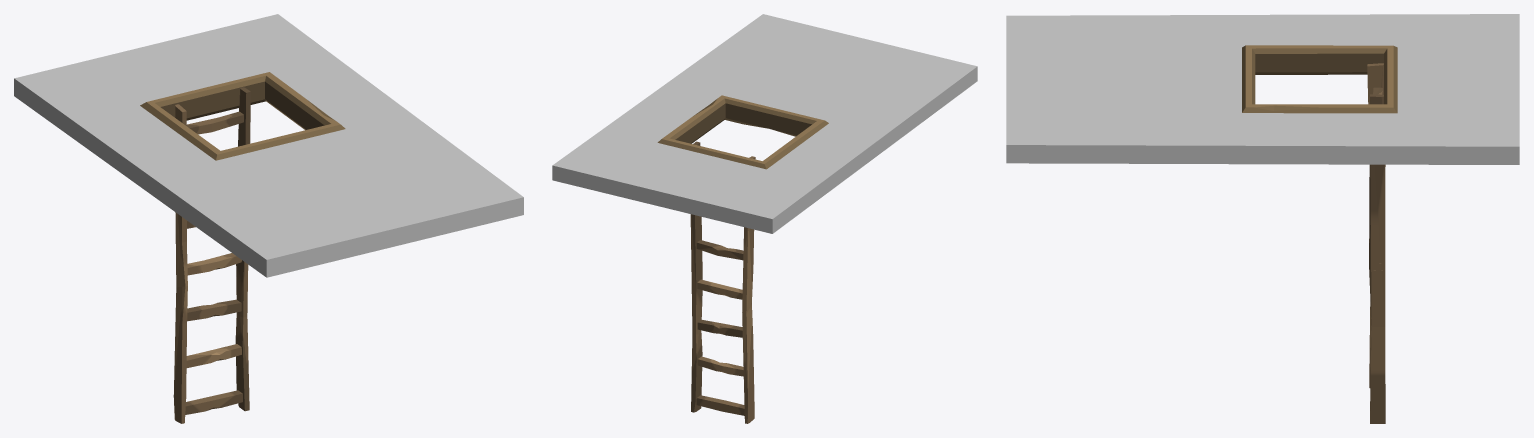
File: SM_Veh_Ship_Ladder_01.fbx
3 renders of one model, left to right at view 1: azimuth 30°, elevation 25°; view 2: azimuth 150°, elevation 25°; view 3: azimuth 270°, elevation 25°, orthographic. The views are drawn at different scales.
Parts seen in each view (by area): view 1: SM_Veh_Ship_Ladder_01; view 2: SM_Veh_Ship_Ladder_01; view 3: SM_Veh_Ship_Ladder_01.
Part boxes in pixels (x1,y1,x2,y2): SM_Veh_Ship_Ladder_01: (14,14,523,423); SM_Veh_Ship_Ladder_01: (552,14,977,423); SM_Veh_Ship_Ladder_01: (1006,14,1519,423).
Size of the model in its own units: 258 by 301 by 422.
